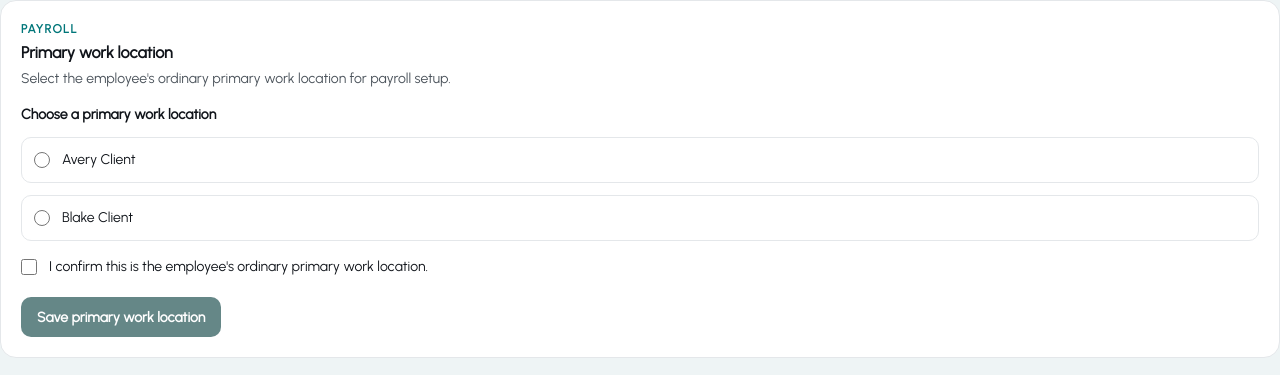
Test: EmployeePrimaryWorkplaceCard › submits the current revision and selection once with a caller-created key
Step 1. Click the radio button labelled "Avery Client" → {"x": 42, "y": 160}, box x1=34 y1=152 x2=50 y2=168
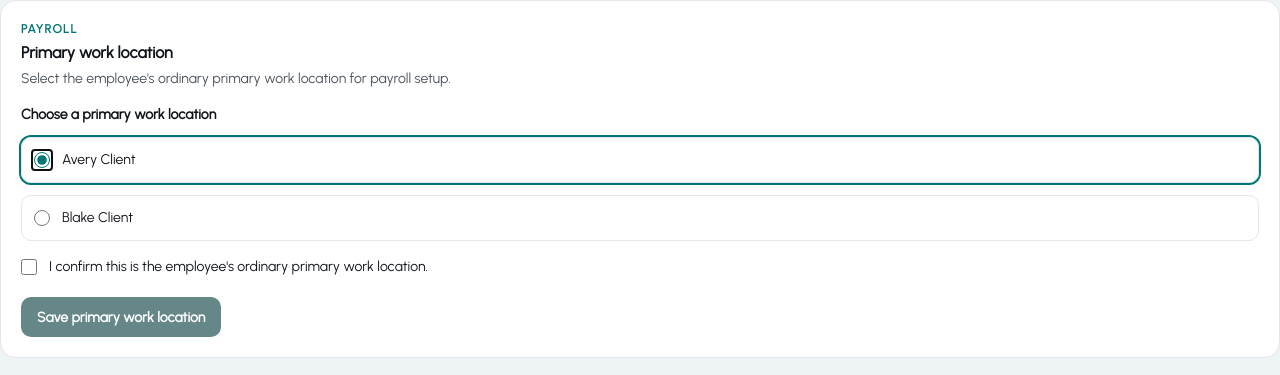
Step 2. Click the checkbox labelled "ordinary primary work location" → {"x": 29, "y": 267}, box x1=21 y1=259 x2=37 y2=275
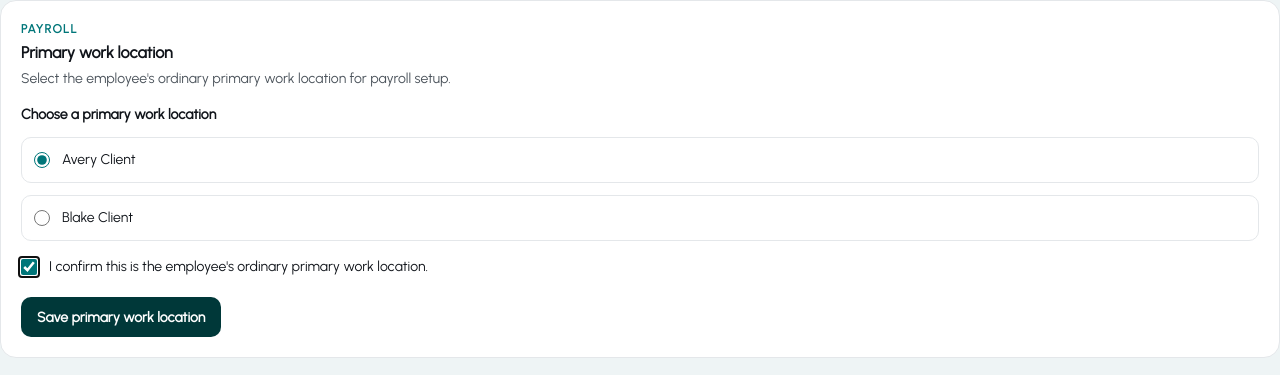
Step 3. Double-click the button "Save primary work location" → {"x": 121, "y": 317}, box x1=21 y1=297 x2=221 y2=337
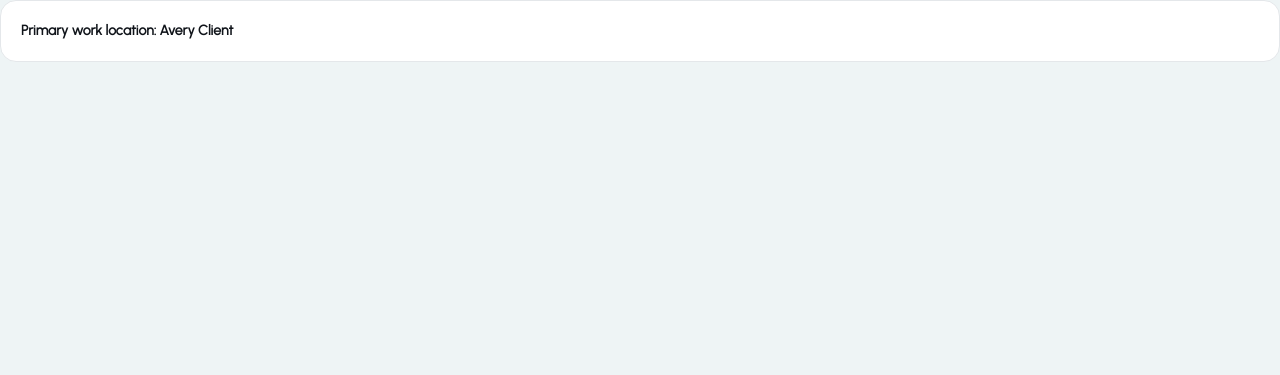
Check: the text "Primary work location: Avery Client" is shown, box x1=21 y1=22 x2=233 y2=39
